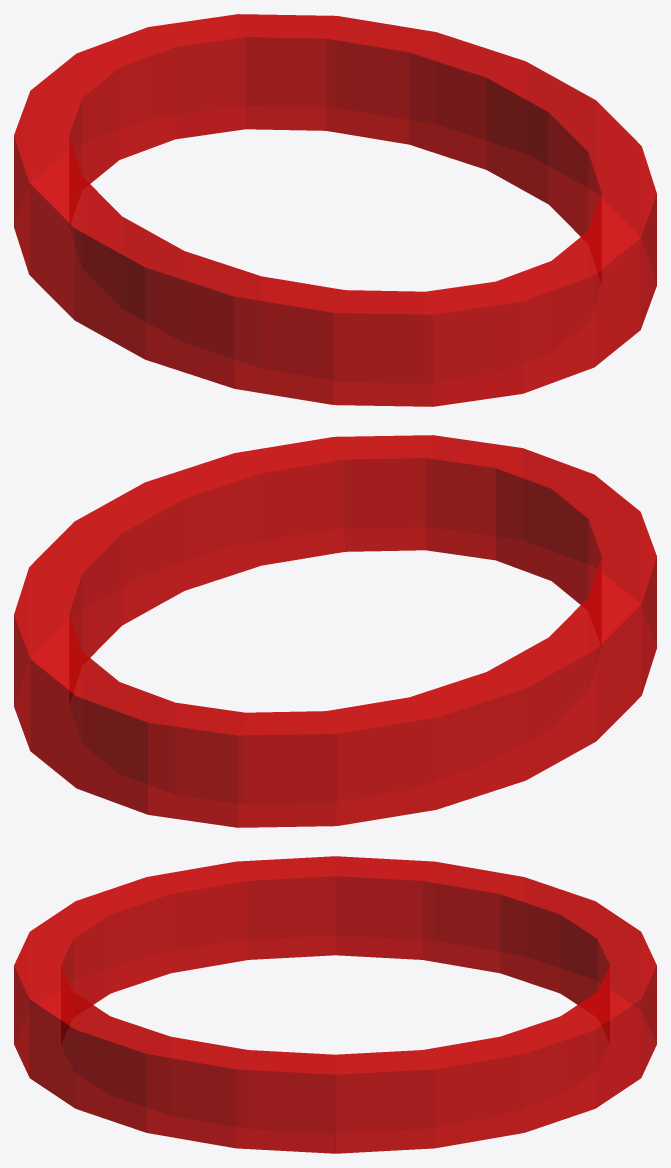
The model's file is Puzzle02Indicator.fbx.
3 renders of one model, top to bottom at view 1: azimuth 30°, elevation 25°; view 2: azimuth 150°, elevation 25°; view 3: azimuth 270°, elevation 25°, orthographic. The views are drawn at different scales.
Parts seen in each view (by area): view 1: LeftThermometer1; view 2: LeftThermometer1; view 3: LeftThermometer1.
Part boxes in pixels (x1=…): LeftThermometer1: x1=14, y1=14, x2=656, y2=406; LeftThermometer1: x1=14, y1=435, x2=656, y2=827; LeftThermometer1: x1=14, y1=856, x2=656, y2=1153.
Bounding box in the file's own units: 2.8 × 0.4724 × 3.48.
